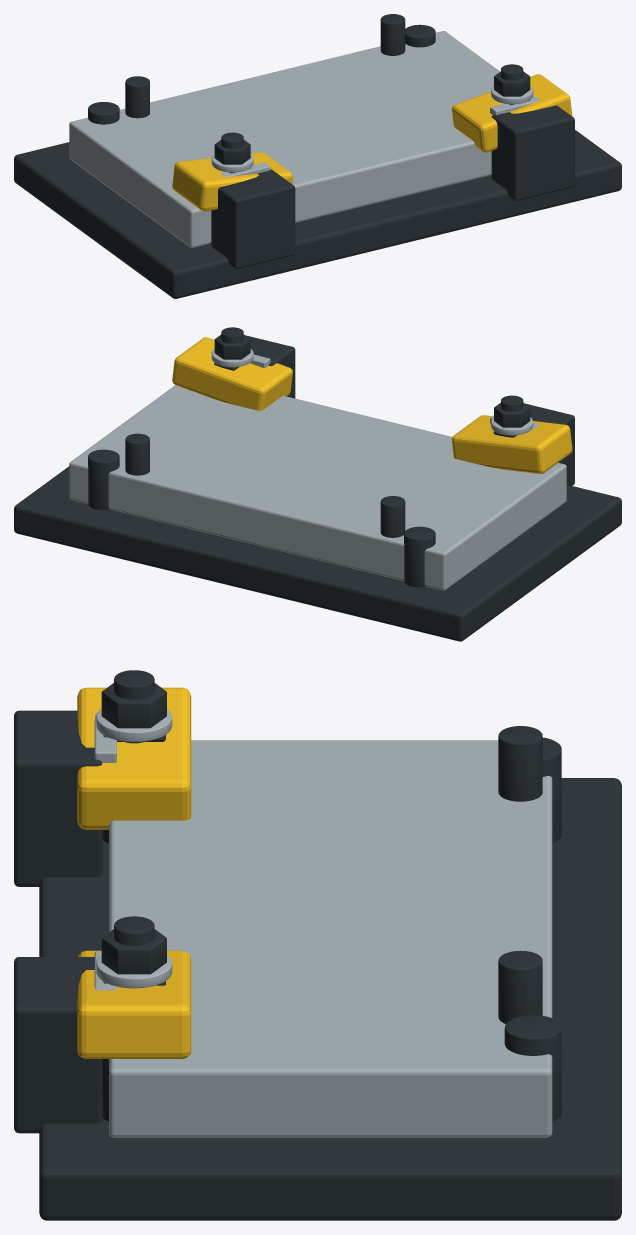
The model's file is clamped_plate_workholding.glb.
The picture shows the model from 3 angles, top to bottom: view 1: azimuth 30°, elevation 25°; view 2: azimuth 150°, elevation 25°; view 3: azimuth 270°, elevation 25°; orthographic projection. The views are drawn at different scales.
Parts seen in each view (by area): view 1: STEEL_WORKPIECE, FIXTURE_SUBPLATE, STEP_BLOCK_-0.46, STEP_BLOCK_0.46, TOE_CLAMP_0.46, TOE_CLAMP_-0.46, LOCATOR_0.42, LOCATOR_-0.42, CLAMP_HEX_NUT_0.46, CLAMP_HEX_NUT_-0.46, FIXTURE_BOLT_-0.52_0.32, FIXTURE_BOLT_0.52_0.32 (+1 smaller); view 2: STEEL_WORKPIECE, FIXTURE_SUBPLATE, TOE_CLAMP_0.46, TOE_CLAMP_-0.46, FIXTURE_BOLT_-0.52_0.32, FIXTURE_BOLT_0.52_0.32, STEP_BLOCK_0.46, STEP_BLOCK_-0.46, LOCATOR_-0.42, LOCATOR_0.42, CLAMP_HEX_NUT_0.46, CLAMP_HEX_NUT_-0.46; view 3: STEEL_WORKPIECE, FIXTURE_SUBPLATE, STEP_BLOCK_0.46, STEP_BLOCK_-0.46, TOE_CLAMP_-0.46, TOE_CLAMP_0.46, LOCATOR_-0.42, LOCATOR_0.42, FIXTURE_BOLT_0.52_0.32, CLAMP_HEX_NUT_-0.46, CLAMP_HEX_NUT_0.46, FIXTURE_BOLT_-0.52_0.32 (+4 smaller).
Boxes of the visible parts, bbox=[...] form: STEEL_WORKPIECE: bbox=[69, 31, 500, 247]; FIXTURE_SUBPLATE: bbox=[14, 130, 621, 298]; STEP_BLOCK_-0.46: bbox=[212, 169, 295, 269]; STEP_BLOCK_0.46: bbox=[491, 105, 574, 200]; TOE_CLAMP_0.46: bbox=[451, 74, 572, 152]; TOE_CLAMP_-0.46: bbox=[172, 152, 292, 210]; LOCATOR_0.42: bbox=[380, 14, 405, 55]; LOCATOR_-0.42: bbox=[125, 76, 149, 118]; CLAMP_HEX_NUT_0.46: bbox=[494, 71, 530, 96]; CLAMP_HEX_NUT_-0.46: bbox=[214, 140, 250, 164]; FIXTURE_BOLT_-0.52_0.32: bbox=[88, 102, 119, 124]; FIXTURE_BOLT_0.52_0.32: bbox=[405, 24, 435, 47]; STEEL_WORKPIECE: bbox=[69, 385, 566, 590]; FIXTURE_SUBPLATE: bbox=[14, 466, 621, 641]; TOE_CLAMP_0.46: bbox=[172, 337, 292, 410]; TOE_CLAMP_-0.46: bbox=[452, 415, 572, 473]; FIXTURE_BOLT_-0.52_0.32: bbox=[404, 526, 435, 587]; FIXTURE_BOLT_0.52_0.32: bbox=[88, 449, 119, 510]; STEP_BLOCK_0.46: bbox=[245, 335, 295, 398]; STEP_BLOCK_-0.46: bbox=[525, 403, 574, 485]; LOCATOR_-0.42: bbox=[380, 496, 405, 537]; LOCATOR_0.42: bbox=[125, 433, 149, 475]; CLAMP_HEX_NUT_0.46: bbox=[214, 334, 250, 359]; CLAMP_HEX_NUT_-0.46: bbox=[494, 403, 530, 427]; STEEL_WORKPIECE: bbox=[109, 740, 552, 1137]; FIXTURE_SUBPLATE: bbox=[39, 778, 621, 1220]; STEP_BLOCK_0.46: bbox=[14, 957, 102, 1133]; STEP_BLOCK_-0.46: bbox=[14, 710, 102, 886]; TOE_CLAMP_-0.46: bbox=[77, 687, 191, 829]; TOE_CLAMP_0.46: bbox=[77, 950, 191, 1058]; LOCATOR_-0.42: bbox=[498, 726, 542, 801]; LOCATOR_0.42: bbox=[498, 950, 542, 1023]; FIXTURE_BOLT_0.52_0.32: bbox=[504, 1015, 561, 1121]; CLAMP_HEX_NUT_-0.46: bbox=[101, 683, 166, 728]; CLAMP_HEX_NUT_0.46: bbox=[101, 929, 166, 974]; FIXTURE_BOLT_-0.52_0.32: bbox=[542, 737, 561, 843].
Size of the model in its own units: 1.48 by 0.39 by 0.96.
